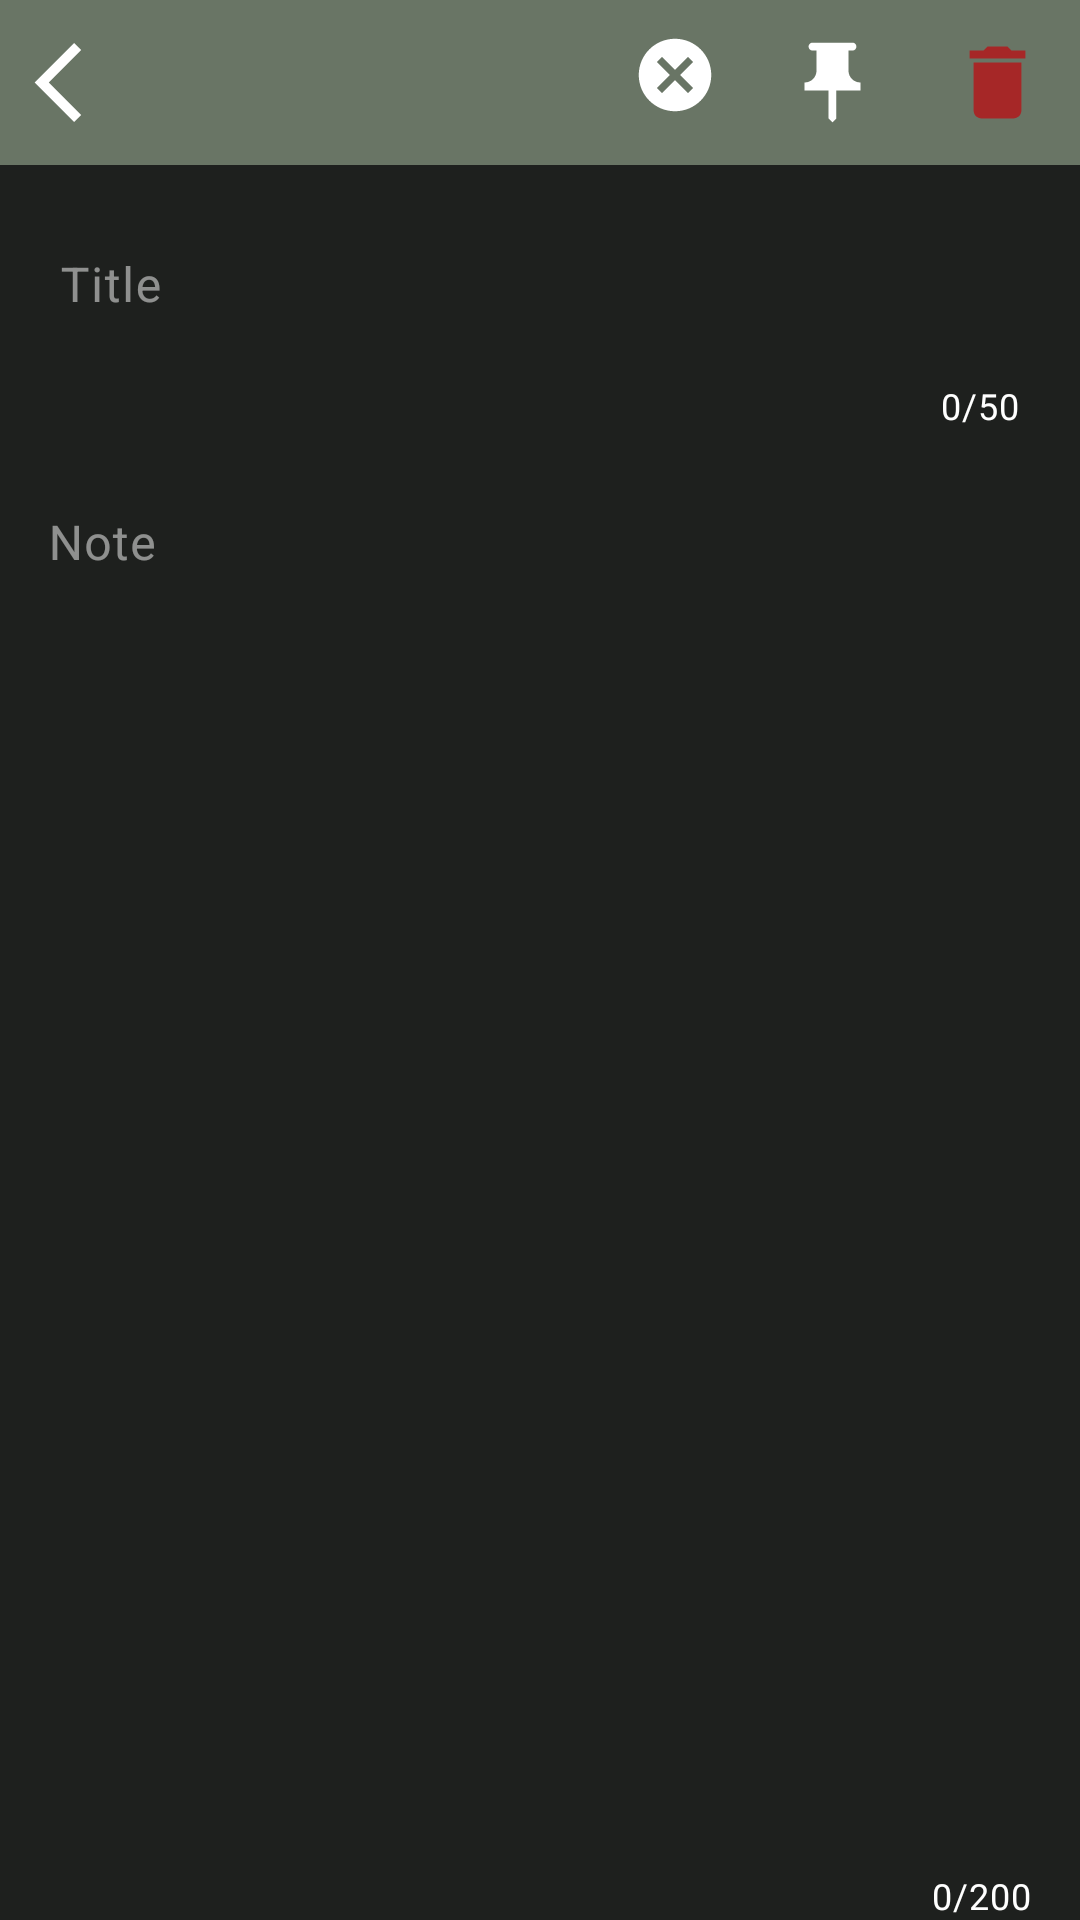

Named icons in this screenshot (1080w x 1920h) and their centers, [x,y]:
back arrow: [58,82]
cancel: [675,75]
delete: [997,82]
pin: [832,82]
